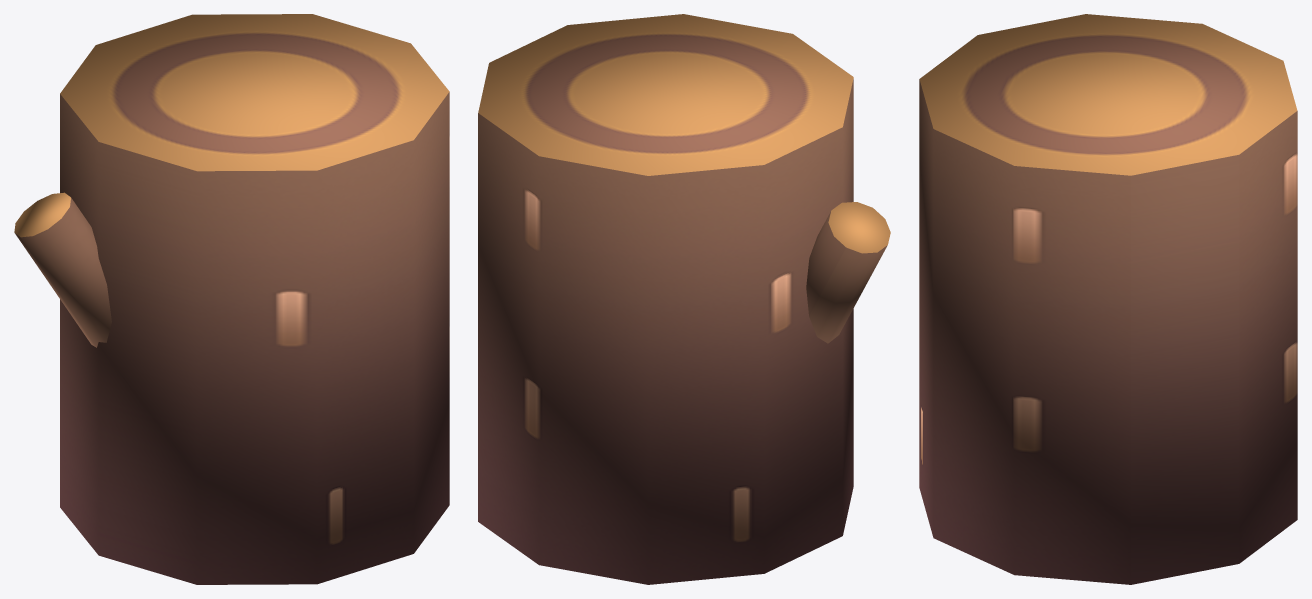
The model's file is brown_wood.glb.
3 renders of one model, left to right at view 1: azimuth 30°, elevation 25°; view 2: azimuth 150°, elevation 25°; view 3: azimuth 270°, elevation 25°, orthographic.
Visible parts, largest first — view 1: Brown_Wood; view 2: Brown_Wood; view 3: Brown_Wood.
Boxes of the visible parts, bbox=[...] form: Brown_Wood: bbox=[14, 14, 449, 584]; Brown_Wood: bbox=[478, 14, 890, 584]; Brown_Wood: bbox=[919, 14, 1297, 584].
Size of the model in its own units: 0.5409 by 0.5388 by 0.4511.
Materials: 1 (1 with a texture image).
